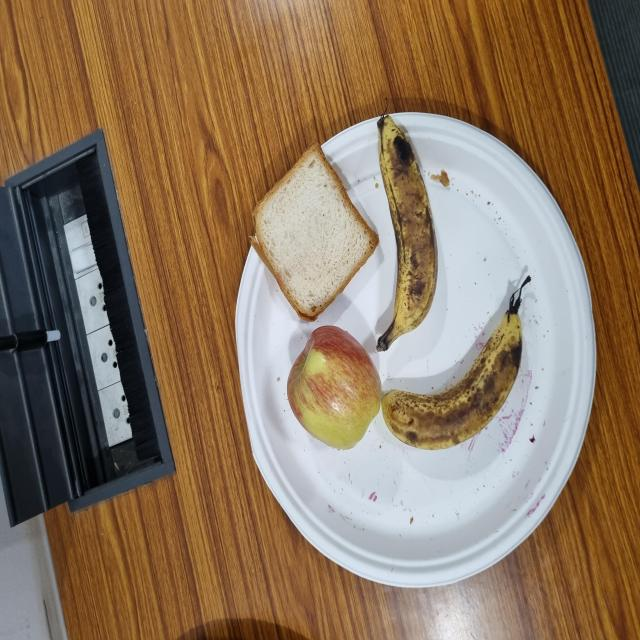apple: (142, 383, 237, 514)
banana: (216, 505, 394, 587), (142, 510, 217, 640)
